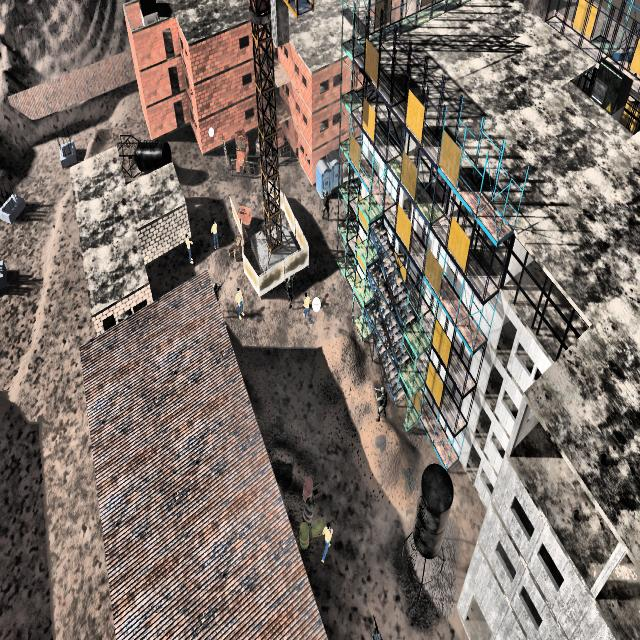bad: (370, 374, 390, 434), (280, 269, 299, 317), (319, 181, 334, 227), (212, 279, 226, 305)
good: (318, 512, 334, 574), (180, 225, 198, 273), (232, 279, 247, 327), (299, 289, 314, 336), (207, 214, 222, 255)
